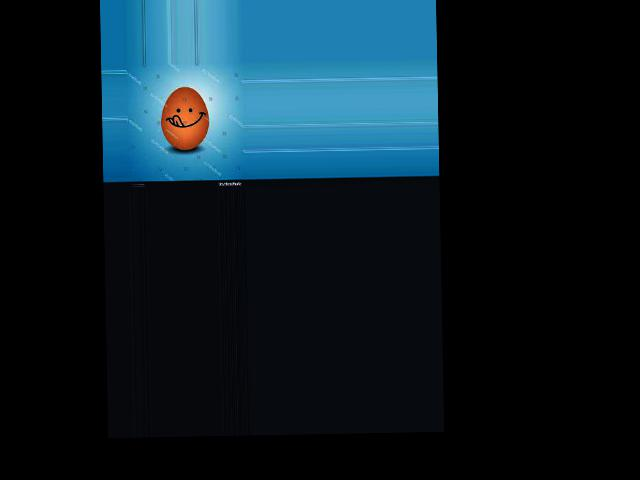egg: (160, 86, 209, 151)
